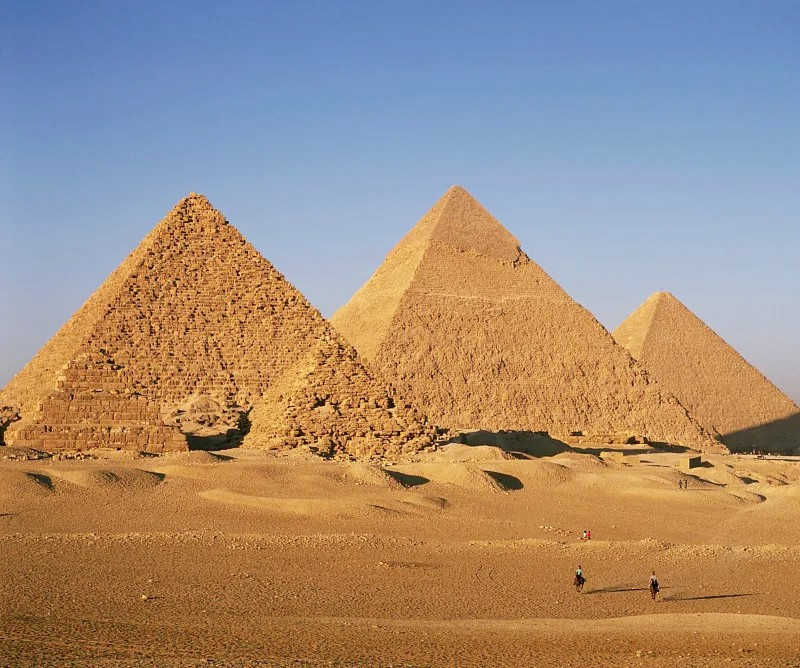Pyramid: (330, 185, 727, 455), (3, 193, 331, 427), (612, 291, 800, 452), (242, 337, 443, 451), (7, 352, 189, 458)
